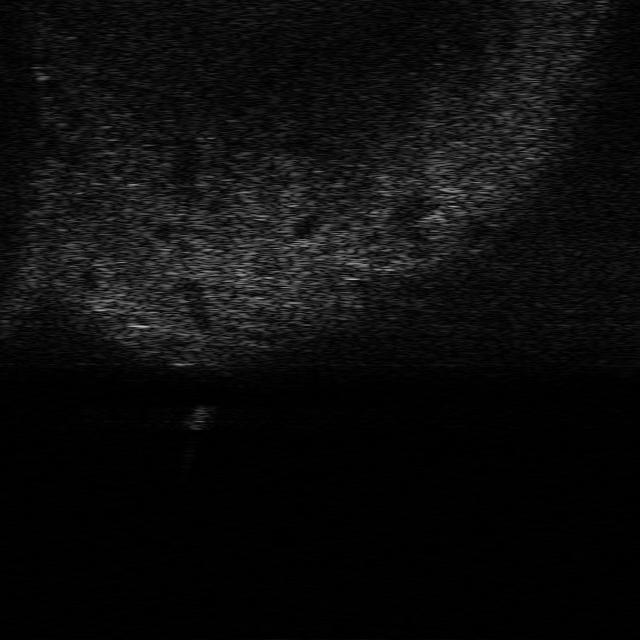cylinder: (184, 404, 212, 430)
